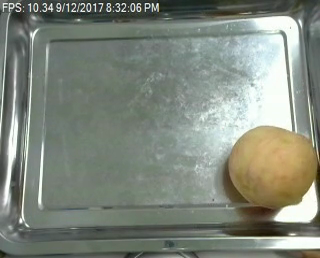Peach: (227, 124, 318, 209)
